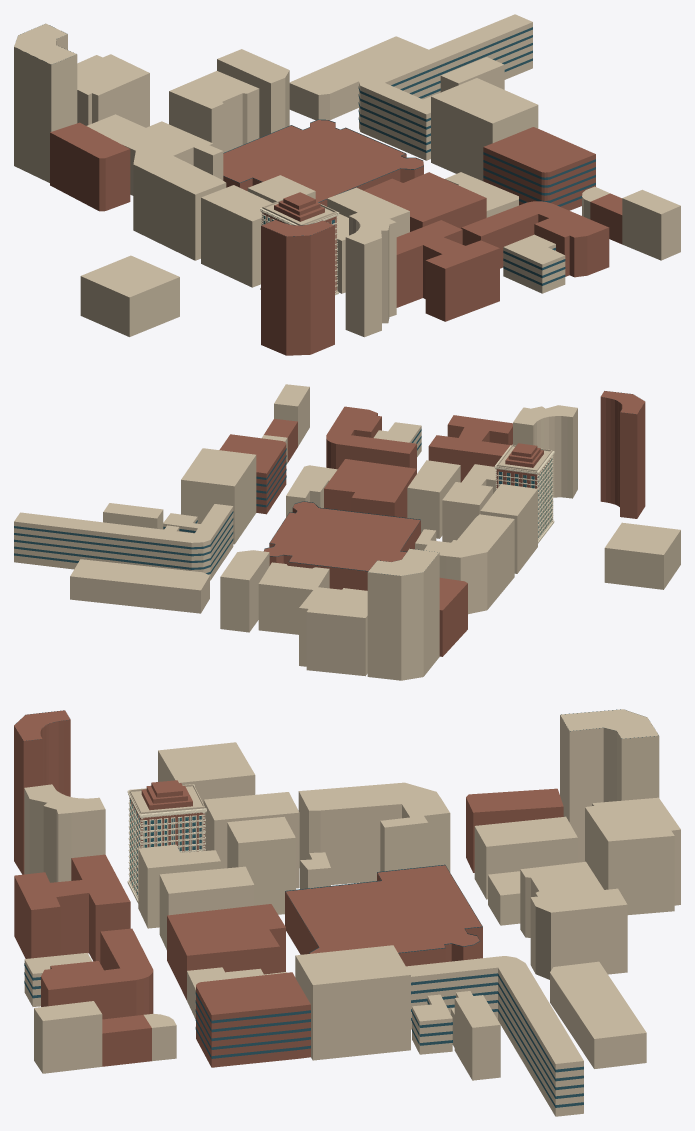
File: city_-3_-1.glb
The picture shows the model from 3 angles, top to bottom: view 1: azimuth 30°, elevation 25°; view 2: azimuth 150°, elevation 25°; view 3: azimuth 270°, elevation 25°; orthographic projection. The views are drawn at different scales.
Parts seen in each view (by area): view 1: city_-3_-1; view 2: city_-3_-1; view 3: city_-3_-1.
Boxes of the visible parts, x1=… form: city_-3_-1: x1=14, y1=14, x2=680, y2=355; city_-3_-1: x1=14, y1=384, x2=680, y2=680; city_-3_-1: x1=14, y1=709, x2=680, y2=1116.
Bounding box in the file's own units: 319 × 61.25 × 273.
